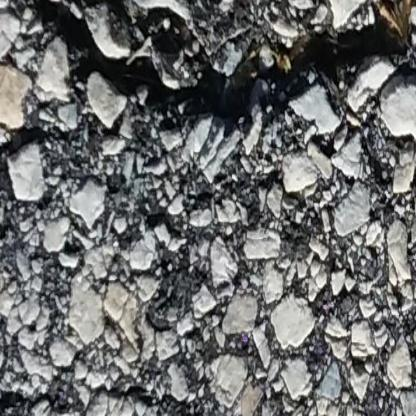Cracks: (1, 0, 416, 131)
